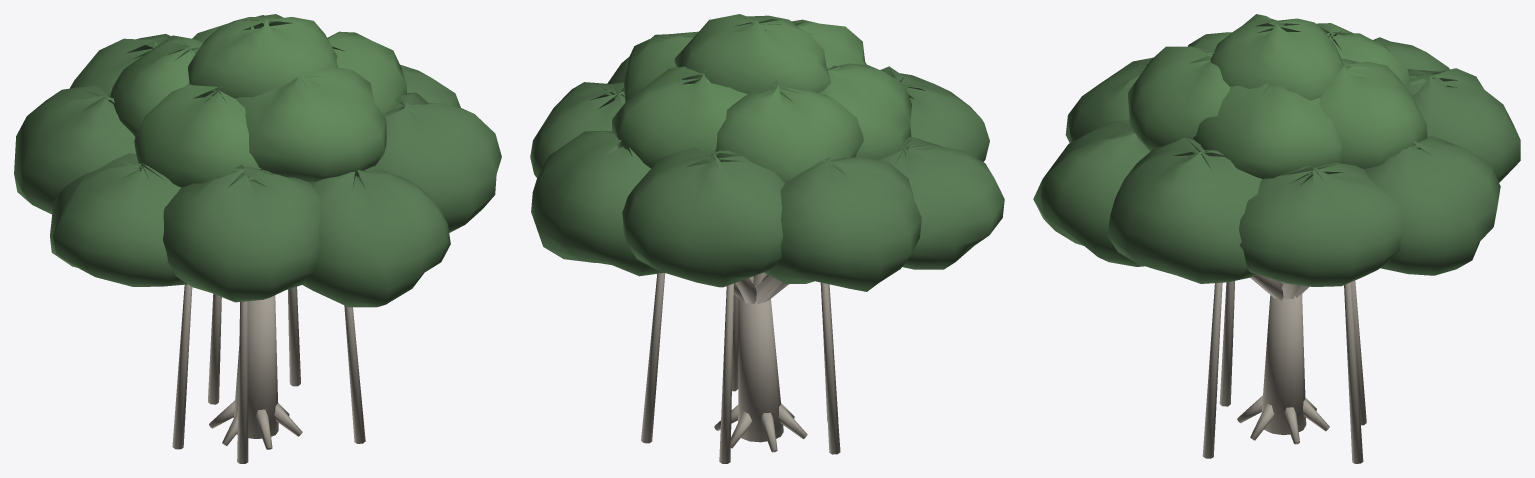
The model's file is giant-banyan.glb.
3 views of the same model, side by side, from view 1: azimuth 30°, elevation 25°; view 2: azimuth 150°, elevation 25°; view 3: azimuth 270°, elevation 25° (orthographic).
Visible parts, largest first — view 1: giant-banyan_canopy_giant-banyan_shade, giant-banyan_canopy_giant-banyan, giant-banyan_canopy_bark_banyan; view 2: giant-banyan_canopy_giant-banyan_shade, giant-banyan_canopy_giant-banyan, giant-banyan_canopy_bark_banyan; view 3: giant-banyan_canopy_giant-banyan_shade, giant-banyan_canopy_giant-banyan, giant-banyan_canopy_bark_banyan.
Boxes of the visible parts, bbox=[...] form: giant-banyan_canopy_giant-banyan_shade: bbox=[14, 34, 501, 307]; giant-banyan_canopy_giant-banyan: bbox=[108, 14, 406, 187]; giant-banyan_canopy_bark_banyan: bbox=[172, 284, 365, 463]; giant-banyan_canopy_giant-banyan_shade: bbox=[530, 34, 1004, 291]; giant-banyan_canopy_giant-banyan: bbox=[612, 14, 911, 181]; giant-banyan_canopy_bark_banyan: bbox=[641, 272, 840, 463]; giant-banyan_canopy_giant-banyan_shade: bbox=[1033, 37, 1520, 286]; giant-banyan_canopy_giant-banyan: bbox=[1128, 14, 1427, 185]; giant-banyan_canopy_bark_banyan: bbox=[1202, 274, 1366, 463].
Size of the model in its own units: 32.93 by 30.86 by 33.26.
